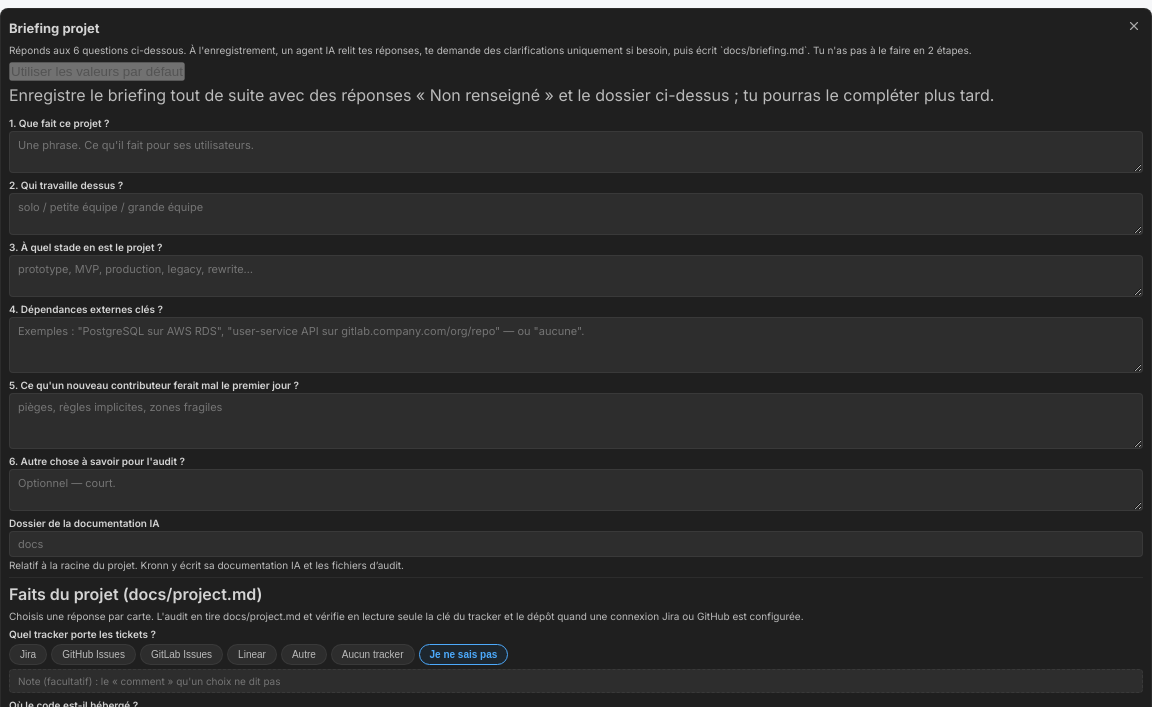
BriefingForm prefill (KT-1196) › after a real change to the project cards, the saved facts do not replace them
Click the radio button labelled "Linear".
click(252, 654)  # box top-left (227, 644), bottom-right (277, 665)
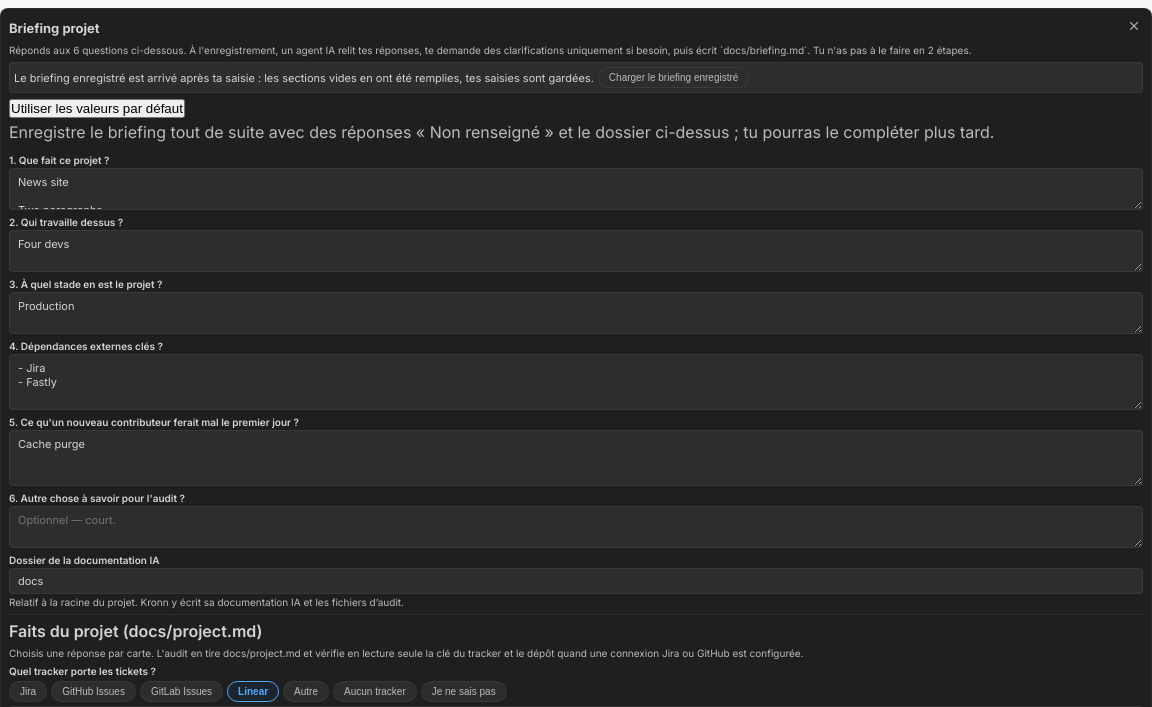
Expected: the radio button labelled "Linear" is shown, top-left (227, 681), bottom-right (279, 702)
Expected: the message with test id "briefing-late-prefill" is shown, top-left (9, 62), bottom-right (1143, 93)
Expected: the text box labelled "2. Qui travaille dessus ?" holds "Four devs", top-left (9, 230), bottom-right (1143, 272)
